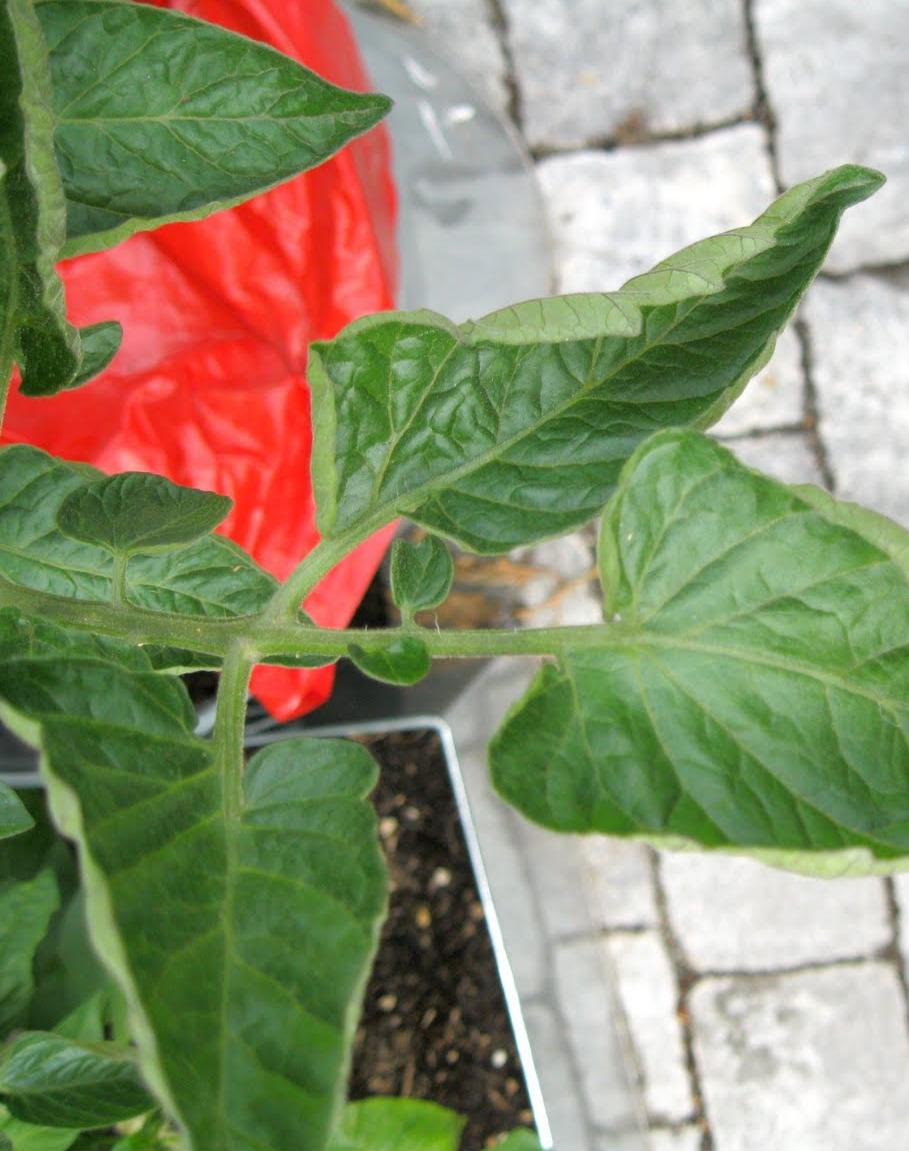Tomato leaf: (286, 113, 892, 570), (0, 651, 397, 1151), (486, 428, 909, 864)
